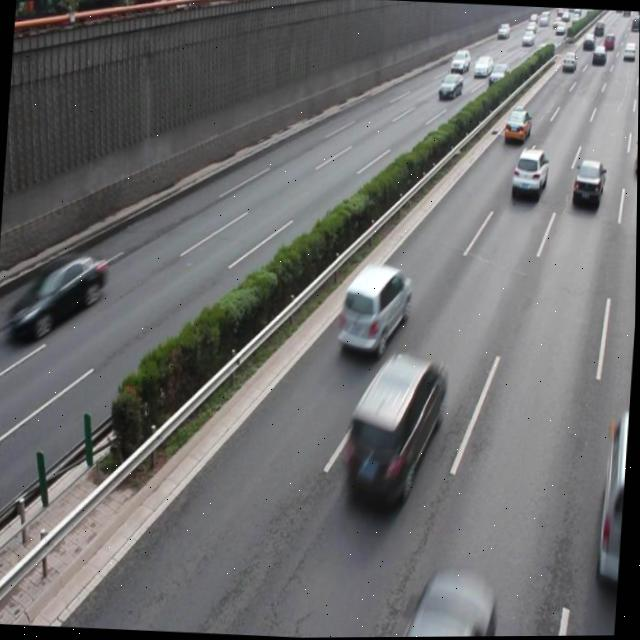car: (344, 349, 448, 507), (14, 248, 108, 337), (337, 262, 413, 352), (405, 566, 497, 638), (510, 147, 548, 203), (571, 159, 606, 210), (634, 135, 638, 177)
truck: (595, 411, 631, 596)
